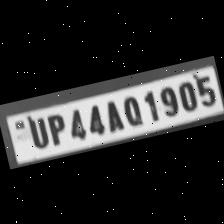0: (173, 78, 199, 112)
1: (138, 88, 162, 124)
4: (62, 104, 89, 142), (81, 99, 107, 137)
5: (192, 71, 219, 108)
9: (154, 80, 181, 118)
A: (98, 96, 124, 134)
P: (41, 109, 68, 147)
Q: (118, 91, 144, 128)
U: (23, 113, 50, 150)
